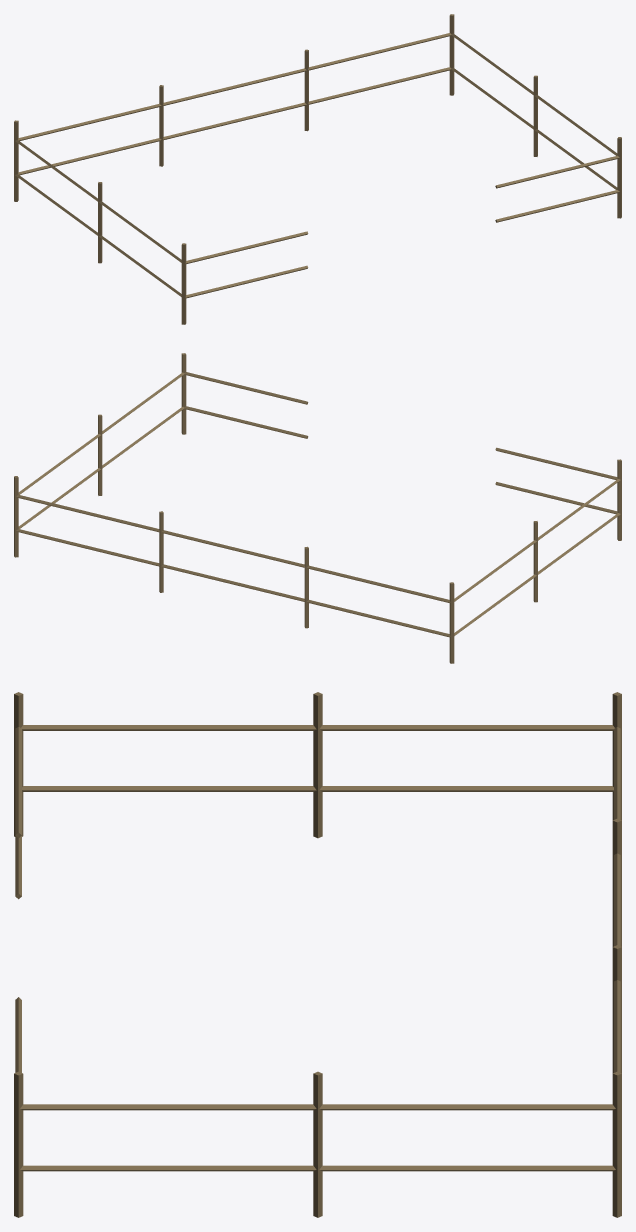
The model's file is herder-pen.glb.
3 renders of one model, top to bottom at view 1: azimuth 30°, elevation 25°; view 2: azimuth 150°, elevation 25°; view 3: azimuth 270°, elevation 25°, orthographic. The views are drawn at different scales.
Visible parts, largest first — view 1: herder-pen; view 2: herder-pen; view 3: herder-pen.
Part boxes in pixels (<box>): herder-pen: <box>14,14,621,324</box>; herder-pen: <box>14,353,621,663</box>; herder-pen: <box>14,692,621,1217</box>.
Size of the model in its own units: 6.06 by 1.05 by 4.06.
